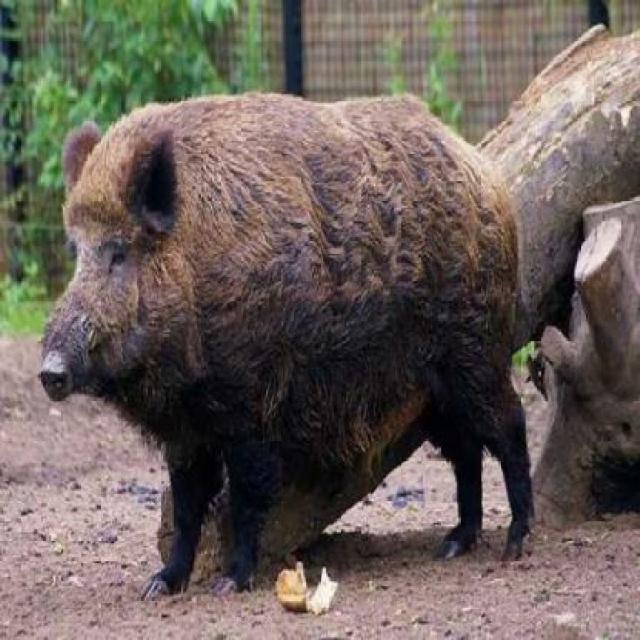pig: (9, 90, 558, 566)
